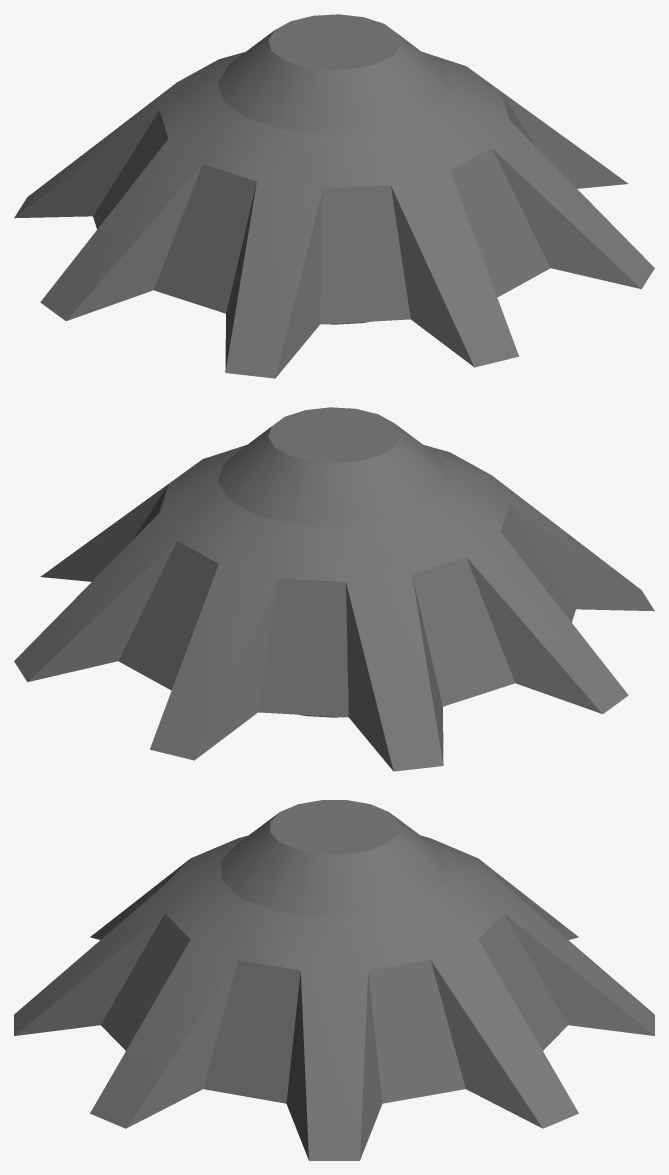
The model's file is Eridani_DockingMechanism_1_Guide.obj.
3 renders of one model, top to bottom at view 1: azimuth 30°, elevation 25°; view 2: azimuth 150°, elevation 25°; view 3: azimuth 270°, elevation 25°, orthographic.
Parts seen in each view (by area): view 1: Eridani_DockingMechanism_1_Guide; view 2: Eridani_DockingMechanism_1_Guide; view 3: Eridani_DockingMechanism_1_Guide.
Boxes of the visible parts, bbox=[...] form: Eridani_DockingMechanism_1_Guide: bbox=[14, 14, 654, 378]; Eridani_DockingMechanism_1_Guide: bbox=[14, 407, 654, 771]; Eridani_DockingMechanism_1_Guide: bbox=[14, 800, 654, 1160].
Size of the model in its own units: 0.425 by 0.17 by 0.425.
